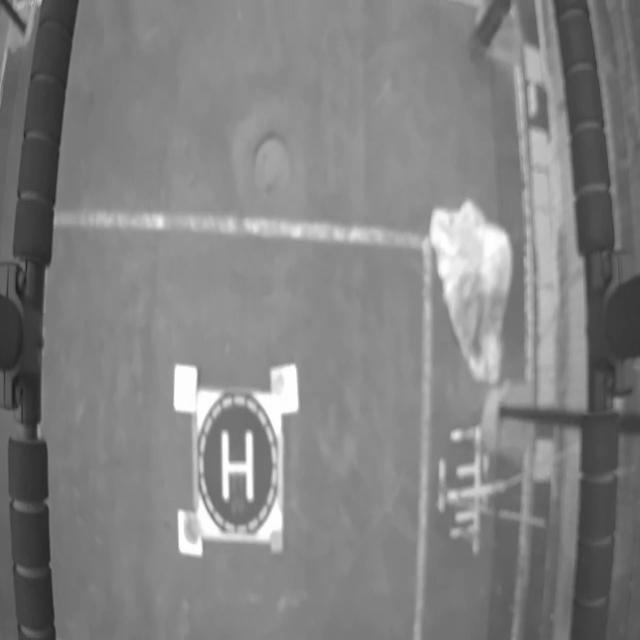Helipad: (222, 429, 253, 504)
